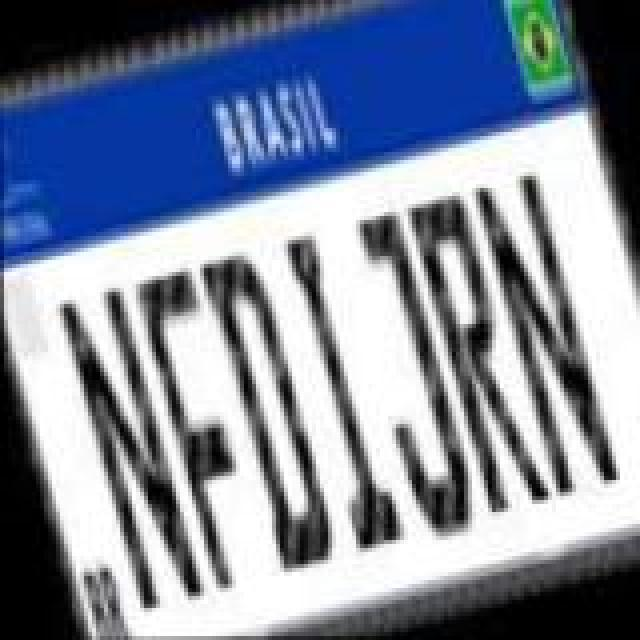D: (196, 238, 344, 578)
F: (126, 258, 270, 594)
I: (268, 222, 404, 558)
J: (330, 202, 486, 550)
N: (48, 274, 204, 618), (470, 162, 622, 502)
R: (402, 182, 550, 522)
